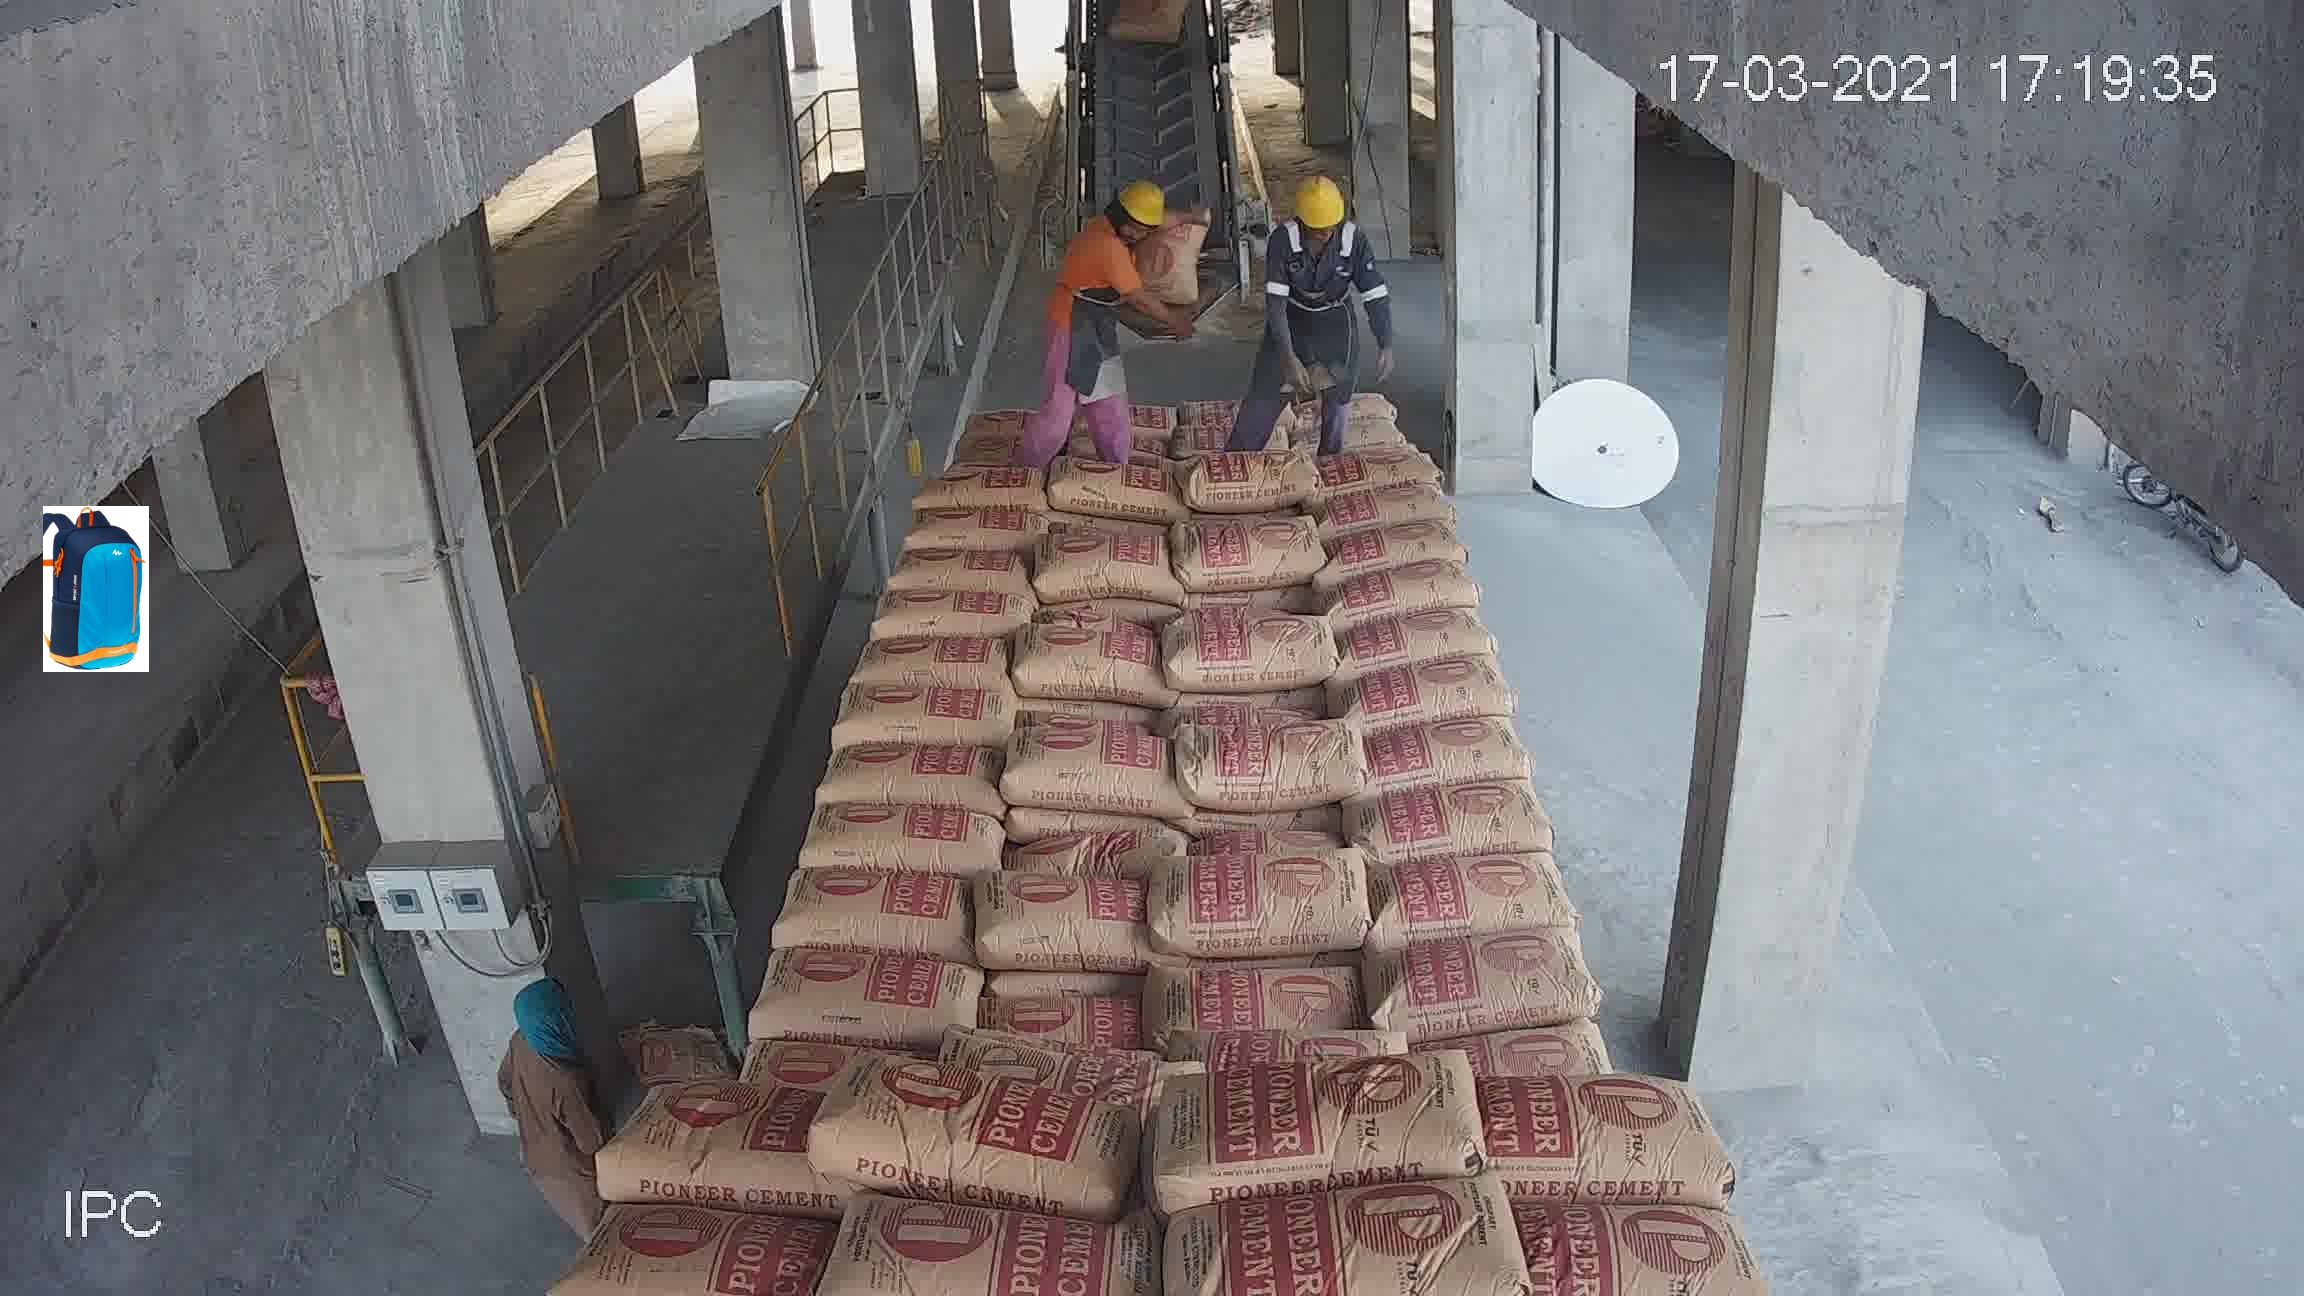bag: (1090, 135, 1209, 250)
bag_h: (807, 1036, 1174, 1207), (1150, 1135, 1524, 1287), (1146, 1048, 1483, 1204), (1473, 1059, 1747, 1206), (1385, 899, 1597, 1049), (824, 1187, 1161, 1271), (1160, 836, 1393, 956), (741, 945, 994, 1048), (1364, 840, 1578, 957), (604, 1087, 804, 1207), (983, 851, 1150, 980), (1503, 1199, 1783, 1272), (1150, 954, 1385, 1041), (1347, 699, 1540, 804), (956, 972, 1146, 1071), (999, 646, 1179, 747), (1332, 657, 1519, 753), (771, 870, 970, 961), (995, 725, 1192, 815), (1370, 785, 1570, 873), (563, 1220, 820, 1287), (1146, 1013, 1407, 1078), (1187, 720, 1375, 804), (1188, 657, 1362, 744), (1016, 798, 1188, 885), (1169, 606, 1347, 687), (801, 809, 1005, 878), (946, 1040, 1207, 1092), (1342, 609, 1505, 684), (824, 688, 992, 758), (815, 750, 1002, 810), (1013, 608, 1166, 680), (1478, 1006, 1617, 1086), (1334, 562, 1478, 633), (853, 642, 1021, 696), (1176, 554, 1287, 627), (1334, 517, 1465, 578), (853, 593, 976, 654), (1025, 589, 1180, 630), (1052, 530, 1173, 579), (1332, 481, 1456, 529), (883, 538, 968, 589)
belt: (1033, 2, 1269, 345)
